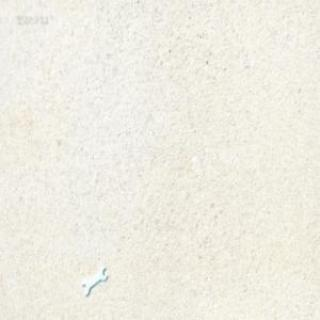Wrenchtrack_idkeyframe: (81, 265, 107, 296)
